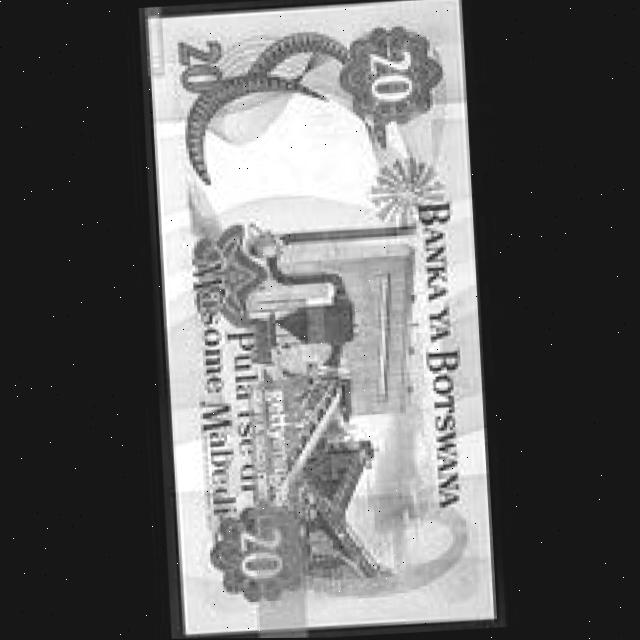banknote: (146, 0, 499, 639)
